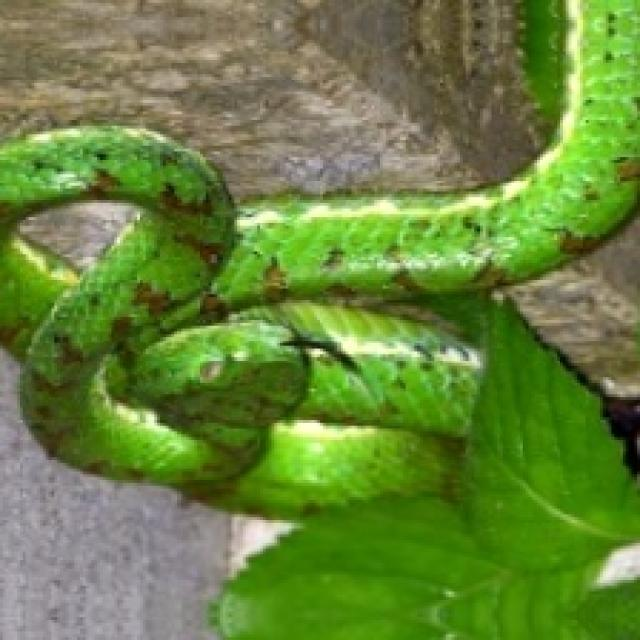philippine pitviper: (0, 0, 640, 517)
